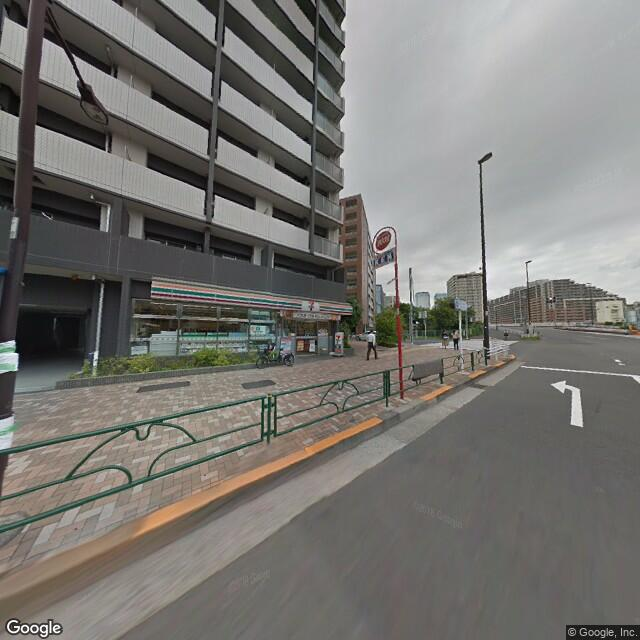7-eleven: (149, 278, 352, 317)
